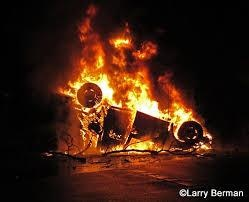fire: (54, 13, 214, 152)
